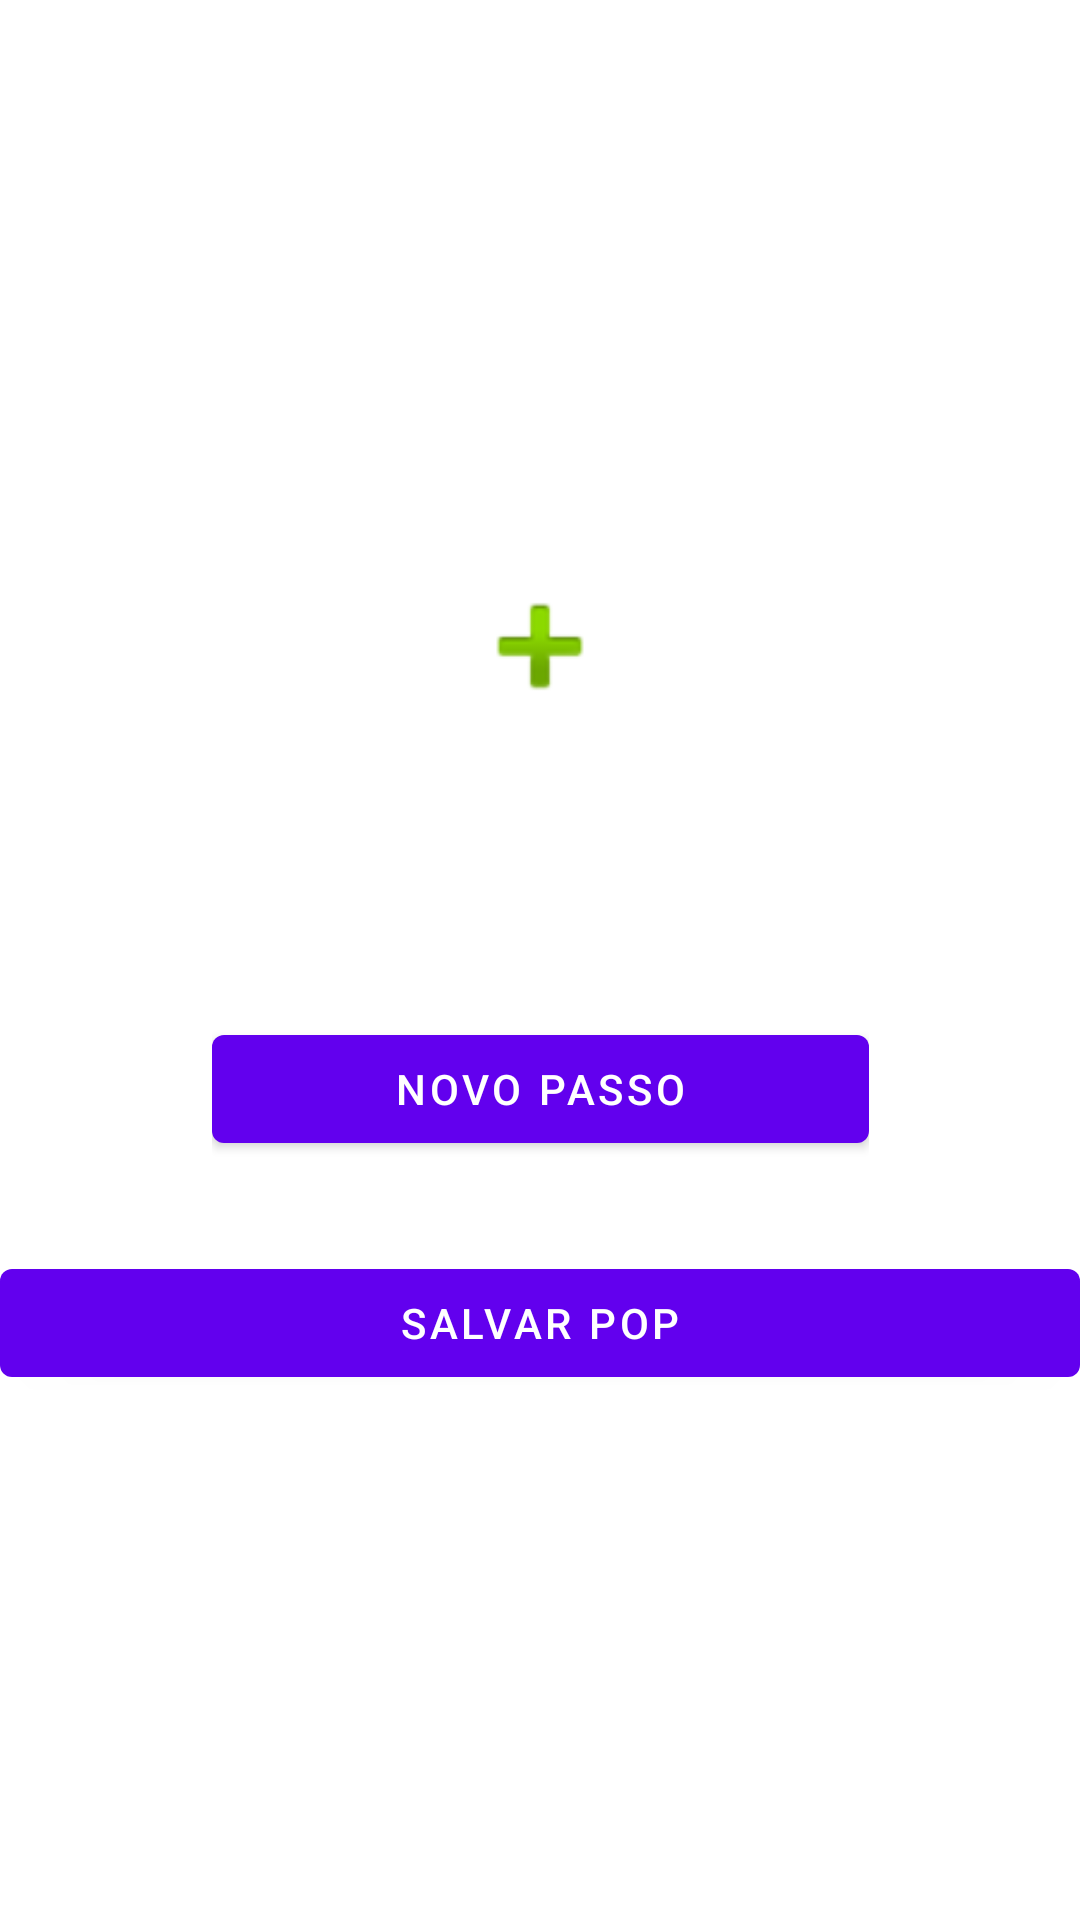

Locate icon controls on the screen. Image size 1080w x 1920h, boxes as (x1,y1,x2,y2).
add: (496,603,584,690)
